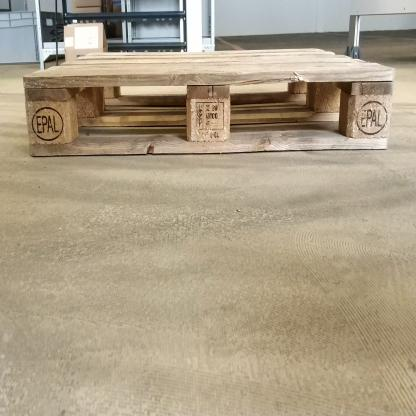BoxFace: (17, 42, 397, 166)
